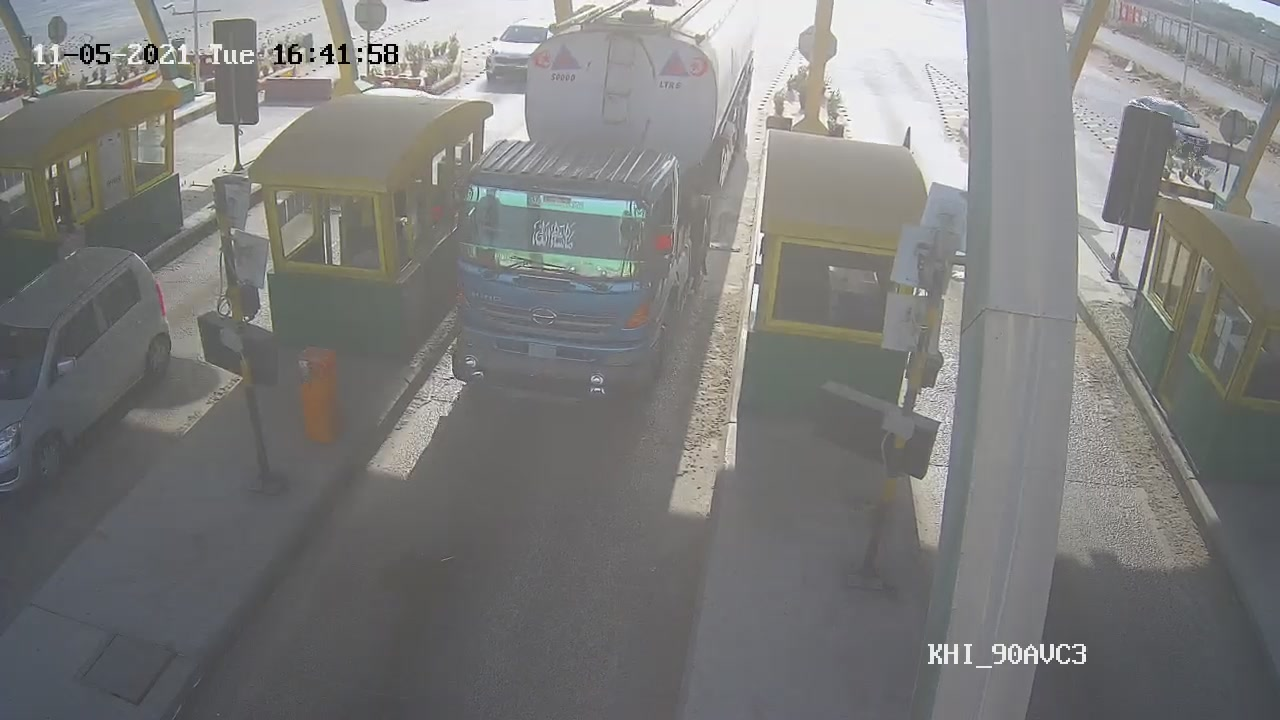F6: (446, 1, 762, 397)
